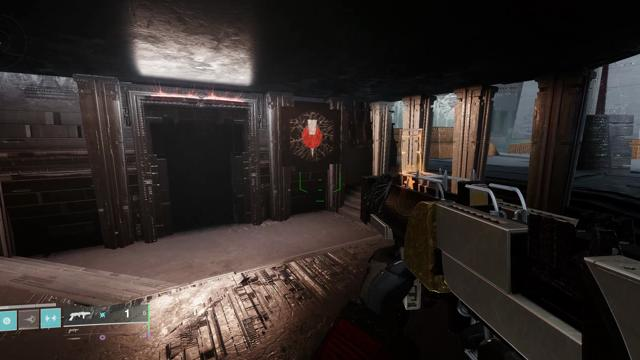kill: (289, 111, 334, 162)
